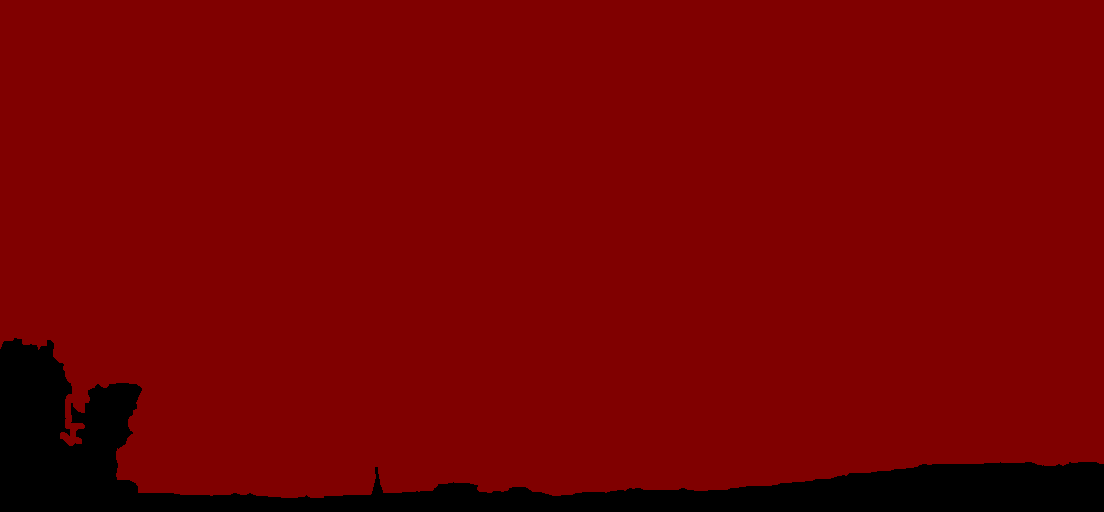Sky: (1, 1, 1103, 497)
